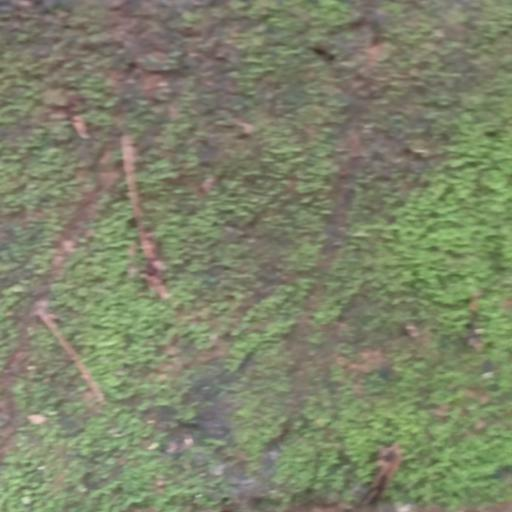algae: (8, 8, 512, 512)
